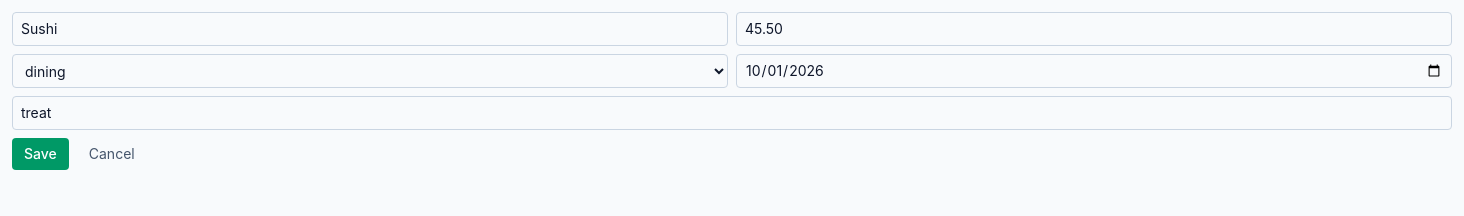
Test case: EntryEditor › does not save with zero amount
Replace the text in the field named "Amount" with "0" at (1094, 29), box [736,12,1452,46]
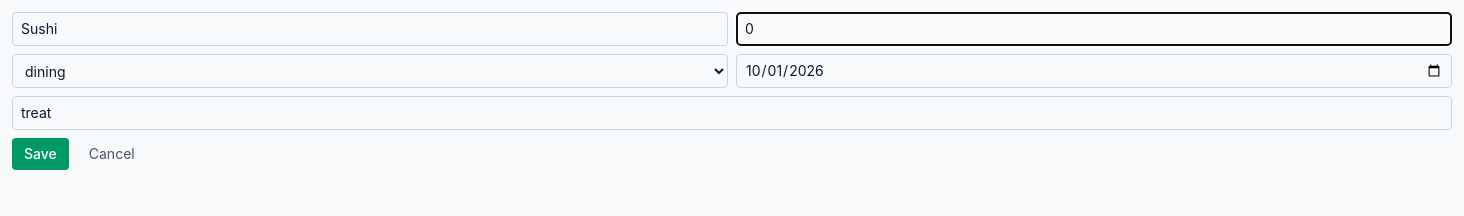
Click the button "Save" at (40, 154), box [12,138,69,170]
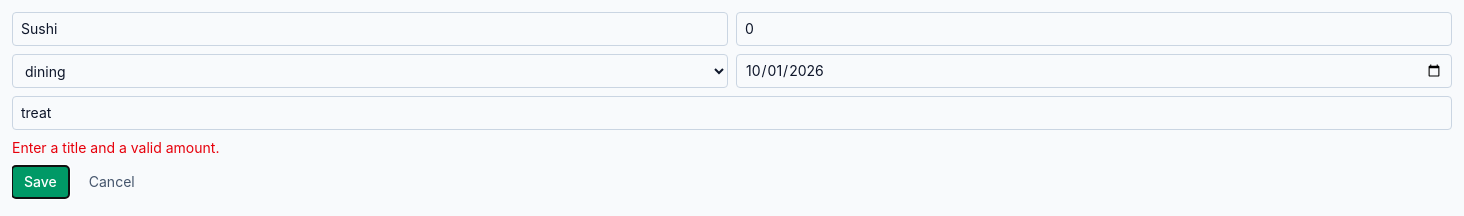
Expected: the text "Enter a title and a valid amount." is shown, [12,139,219,156]
